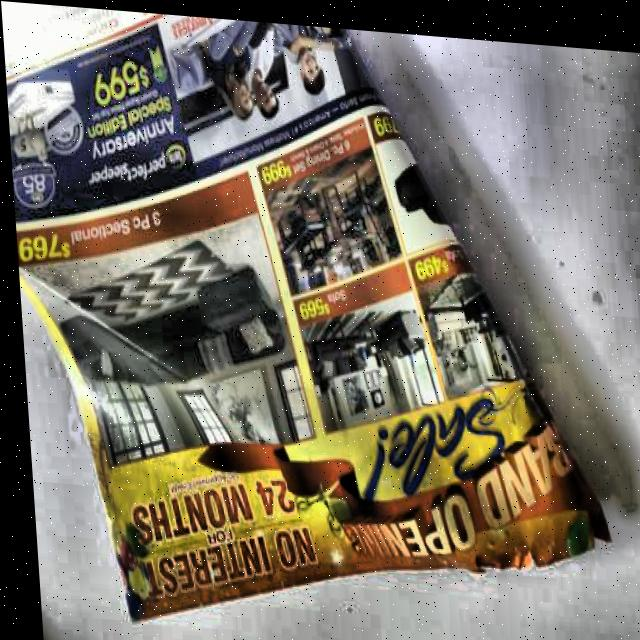paper: (0, 0, 619, 640)
